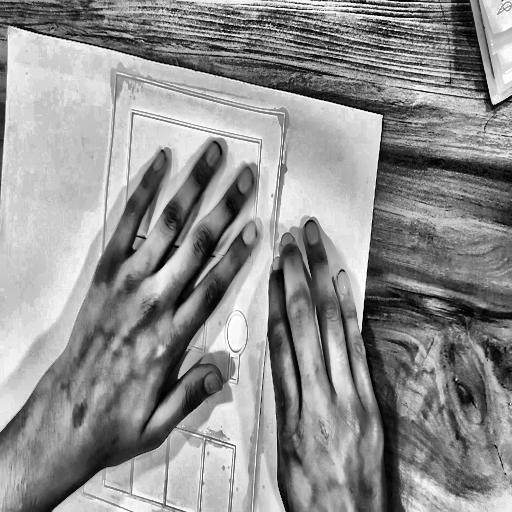door: (78, 64, 294, 512)
top_left: (6, 22, 11, 30)
top_right: (380, 111, 386, 120)
